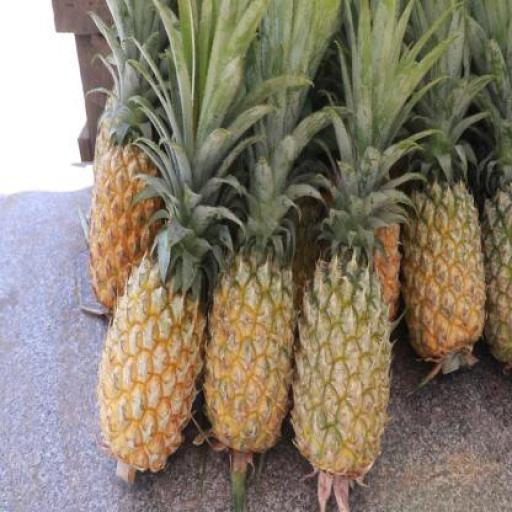------------------------------: (294, 260, 390, 464)
Pineapple - v8 v1: (98, 258, 204, 469), (205, 257, 298, 452), (90, 140, 167, 326), (406, 184, 486, 356)
